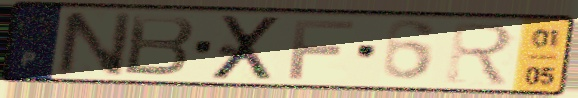6: (380, 16, 441, 89)
B: (121, 12, 199, 79)
F: (286, 18, 359, 82)
N: (53, 10, 137, 78)
R: (444, 20, 517, 89)
X: (207, 14, 288, 82)
